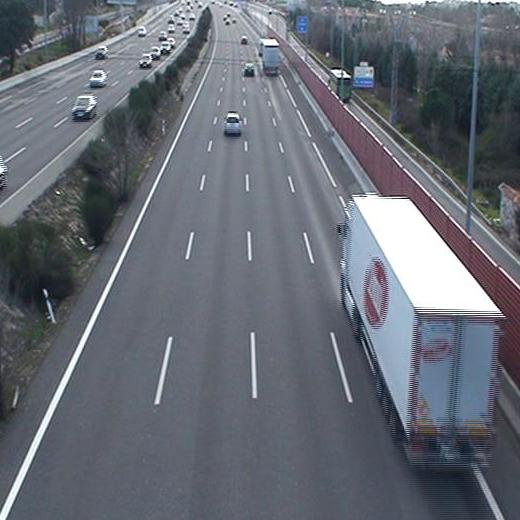car: (223, 112, 242, 135), (242, 61, 256, 77)
truck: (338, 192, 509, 479), (259, 38, 281, 77)
